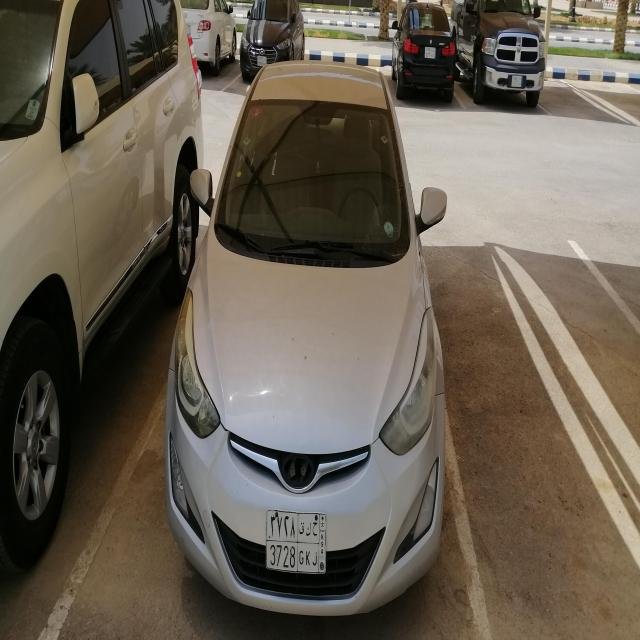license_plate: (264, 508, 326, 576)
